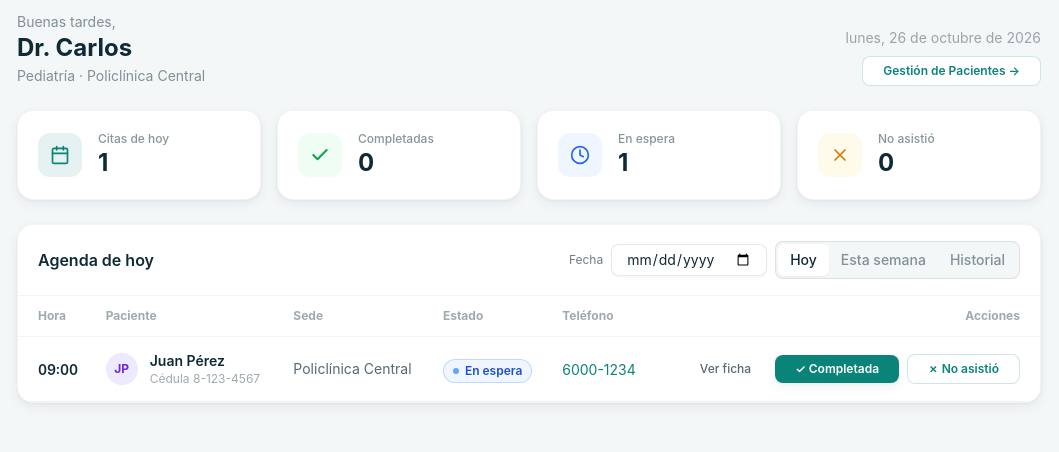
Test: <MedicoDashboardV2 /> › muestra un error inline si marcarNoAsistio falla
Click the button "✗ No asistió" at (964, 369), box [907,354,1020,384]
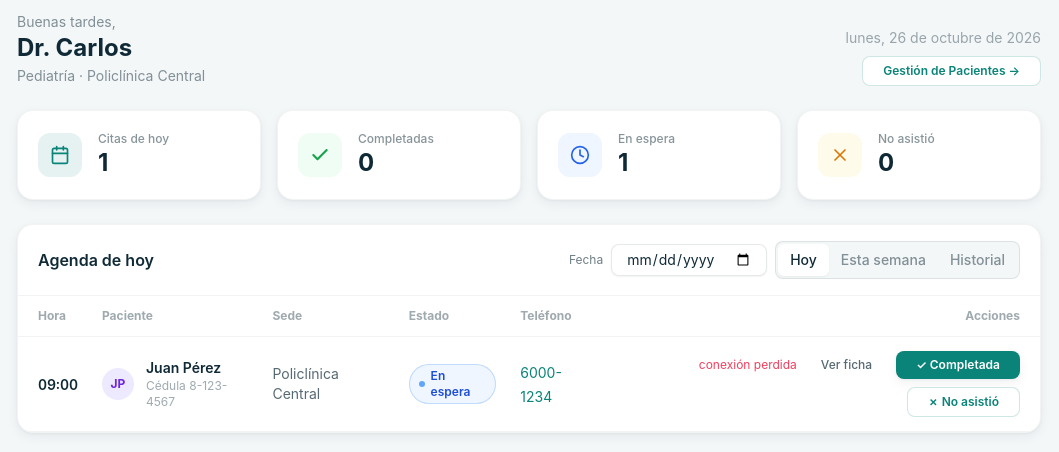
Result: the text "conexión perdida" is shown at [699,357,797,373]
